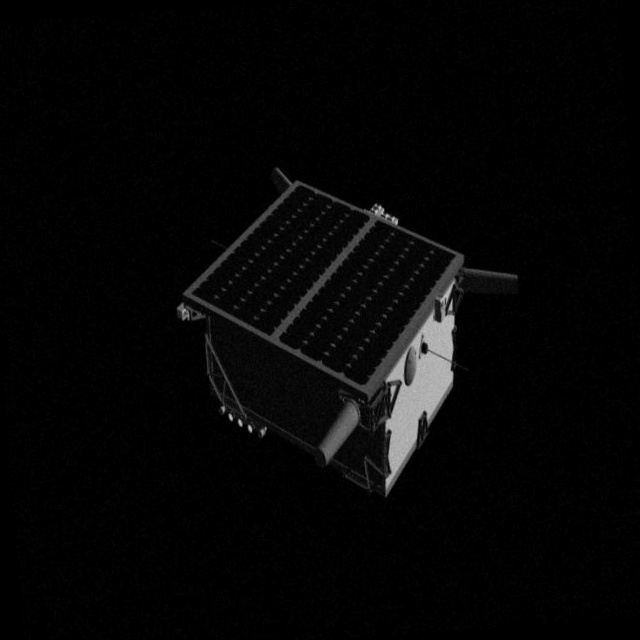medium_debris: (161, 156, 532, 520)
